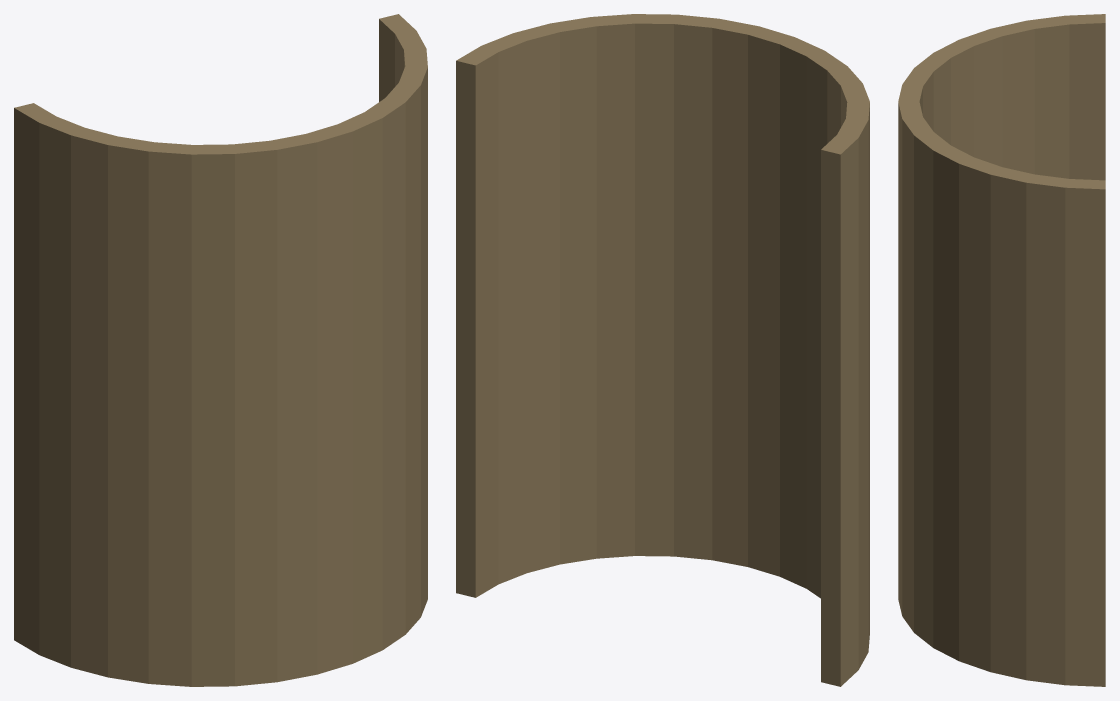
The model's file is Wall_N4_Bend_01.fbx.
3 renders of one model, left to right at view 1: azimuth 30°, elevation 25°; view 2: azimuth 150°, elevation 25°; view 3: azimuth 270°, elevation 25°, orthographic. The views are drawn at different scales.
Parts seen in each view (by area): view 1: Wall_N4_Bend_01; view 2: Wall_N4_Bend_01; view 3: Wall_N4_Bend_01.
Part boxes in pixels (x1,y1,x2,y2): Wall_N4_Bend_01: [14, 14, 427, 686]; Wall_N4_Bend_01: [456, 14, 869, 686]; Wall_N4_Bend_01: [898, 14, 1105, 686].
Bounding box in the file's own units: 433 × 572 × 216.
